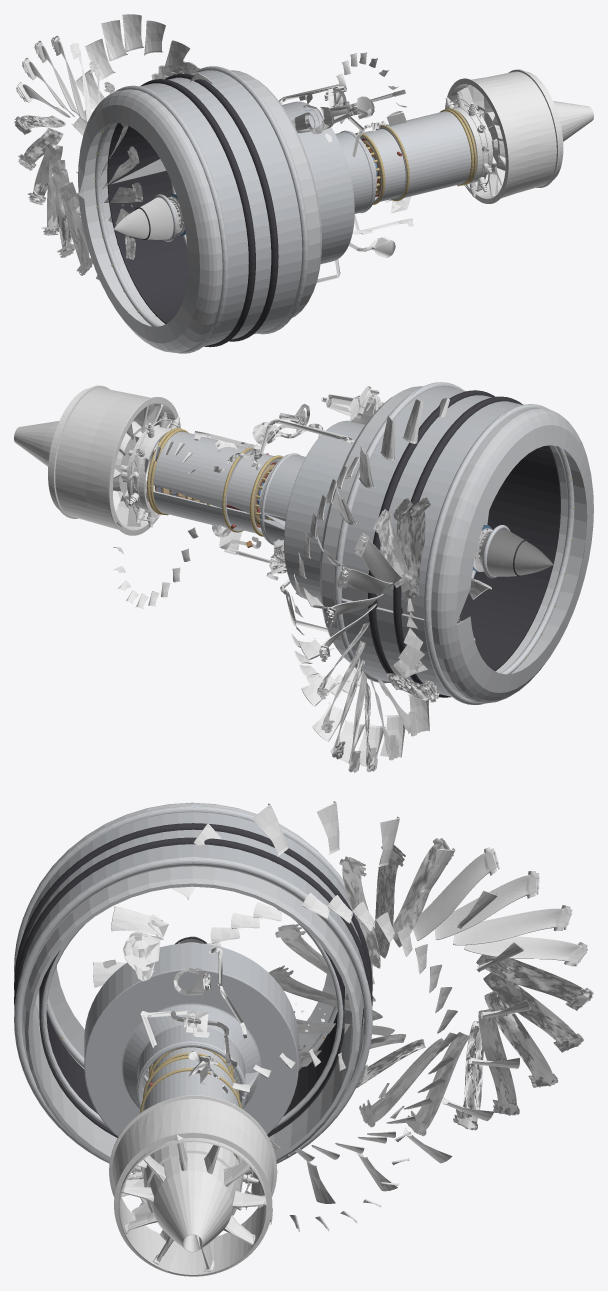
File: turbine.glb
3 views of the same model, one above another, from view 1: azimuth 30°, elevation 25°; view 2: azimuth 150°, elevation 25°; view 3: azimuth 270°, elevation 25° (orthographic). The views are drawn at different scales.
Parts seen in each view (by area): view 1: pieza_fan_case, TRB_FanCaseOuter.002, turbine engine 3d model.001, TRB_FanCaseLiner.002, TRB_CoreCowl.002, TRB_TurbCase.002, turbine rotor 3d model.002, TRB_Kevlar1.002, TRB_Kevlar2.002, TRB_FanFlgR.002, TRB_FanFlgF.002, conical drill bit 3d model (+16 smaller); view 2: pieza_fan_case, TRB_FanCaseOuter.002, turbine engine 3d model.001, TRB_FanCaseLiner.002, TRB_CoreCowl.002, turbine rotor 3d model.002, TRB_TurbCase.002, TRB_FanFlgF.002, conical drill bit 3d model, metal ring with fittings 3d model, TRB_FanFlgR.002, turbine impeller 3d model.001 (+19 smaller); view 3: TRB_CoreCowl.002, turbine engine 3d model.001, pieza_fan_case, TRB_FanCaseOuter.002, turbine rotor 3d model.002, TRB_FanFlgR.002, turbine impeller 3d model.001, TRB_FanCaseLiner.002, TRB_Kevlar2.002, TRB_Kevlar1.002, jet engine 3d model_LIMPIO_p02.001, TRB_FanFlgF.002 (+23 smaller).
Part boxes in pixels (bbox=[...]): pieza_fan_case: bbox=[78, 70, 321, 352]; TRB_FanCaseOuter.002: bbox=[141, 70, 302, 346]; turbine engine 3d model.001: bbox=[445, 69, 593, 203]; TRB_FanCaseLiner.002: bbox=[107, 123, 188, 323]; TRB_CoreCowl.002: bbox=[282, 101, 376, 264]; TRB_TurbCase.002: bbox=[376, 111, 473, 199]; turbine rotor 3d model.002: bbox=[72, 14, 212, 173]; TRB_Kevlar1.002: bbox=[140, 79, 255, 347]; TRB_Kevlar2.002: bbox=[165, 73, 278, 341]; TRB_FanFlgR.002: bbox=[193, 66, 308, 334]; TRB_FanFlgF.002: bbox=[115, 85, 228, 353]; conical drill bit 3d model: bbox=[114, 196, 183, 239]; pieza_fan_case: bbox=[319, 386, 593, 703]; TRB_FanCaseOuter.002: bbox=[341, 386, 522, 696]; turbine engine 3d model.001: bbox=[14, 385, 180, 535]; TRB_FanCaseLiner.002: bbox=[458, 445, 560, 671]; TRB_CoreCowl.002: bbox=[260, 420, 364, 602]; turbine rotor 3d model.002: bbox=[298, 398, 491, 766]; TRB_TurbCase.002: bbox=[150, 431, 259, 531]; TRB_FanFlgF.002: bbox=[424, 404, 549, 704]; conical drill bit 3d model: bbox=[475, 528, 553, 576]; metal ring with fittings 3d model: bbox=[127, 412, 179, 527]; TRB_FanFlgR.002: bbox=[334, 382, 463, 683]; turbine impeller 3d model.001: bbox=[290, 457, 361, 696]; TRB_CoreCowl.002: bbox=[84, 943, 298, 1136]; turbine engine 3d model.001: bbox=[109, 1095, 277, 1276]; pieza_fan_case: bbox=[22, 802, 363, 1174]; TRB_FanCaseOuter.002: bbox=[21, 812, 365, 1097]; turbine rotor 3d model.002: bbox=[93, 801, 530, 1203]; TRB_FanFlgR.002: bbox=[14, 857, 372, 1174]; turbine impeller 3d model.001: bbox=[205, 893, 458, 1161]; TRB_FanCaseLiner.002: bbox=[39, 945, 344, 1137]; TRB_Kevlar2.002: bbox=[14, 837, 372, 1029]; TRB_Kevlar1.002: bbox=[14, 823, 372, 990]; jet engine 3d model_LIMPIO_p02.001: bbox=[123, 914, 209, 1047]; TRB_FanFlgF.002: bbox=[14, 806, 372, 974].
Size of the model in its own units: 8.53 by 5.23 by 6.88.
